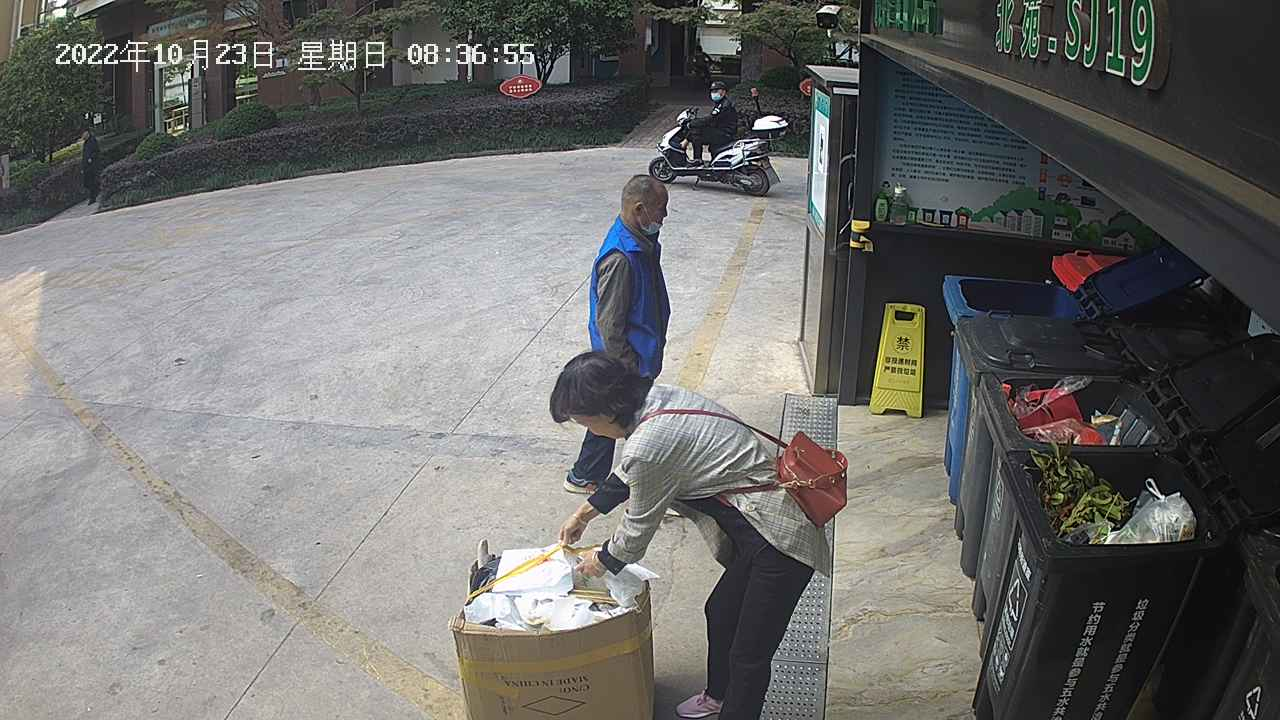person: (548, 167, 854, 720)
worker: (666, 79, 751, 176)
zhizhipin: (444, 533, 665, 720)
